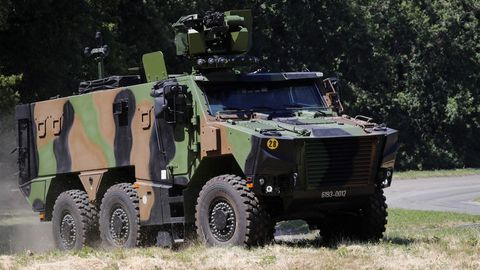license_plate: (321, 189, 349, 201)
